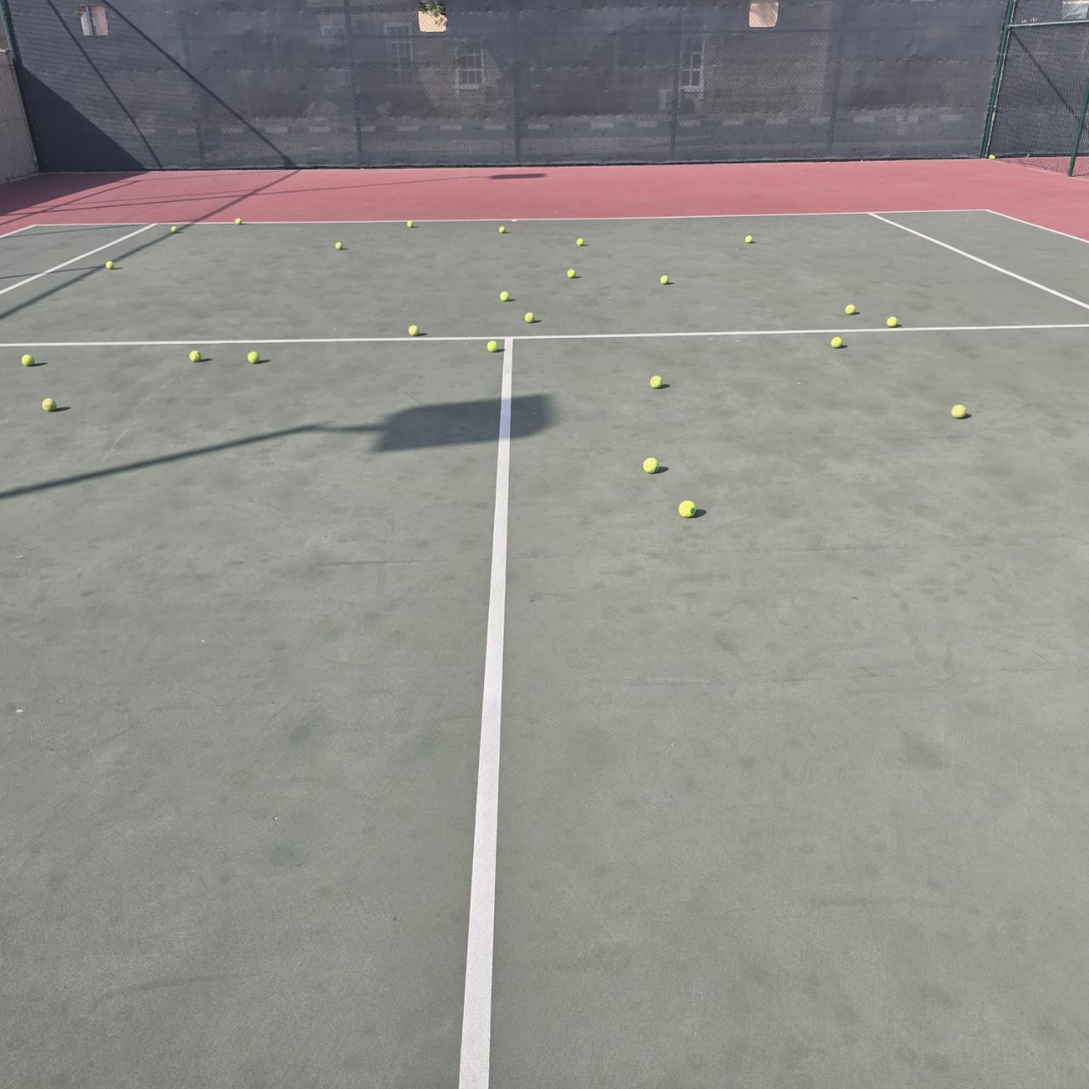tennis-ball: (678, 499, 697, 517), (643, 457, 659, 473), (951, 404, 967, 419), (41, 398, 57, 412), (650, 375, 663, 389), (247, 351, 260, 364), (21, 354, 35, 366), (189, 350, 201, 363), (886, 316, 898, 328), (831, 337, 843, 349), (486, 340, 497, 352), (845, 304, 856, 315), (408, 325, 419, 336), (525, 312, 535, 323), (567, 268, 576, 279), (500, 291, 509, 302), (660, 275, 669, 285), (744, 235, 753, 244), (105, 261, 114, 270), (335, 241, 343, 250), (576, 238, 584, 247), (498, 226, 506, 234), (170, 225, 178, 233), (407, 220, 414, 228), (235, 217, 242, 225), (988, 154, 996, 160)
